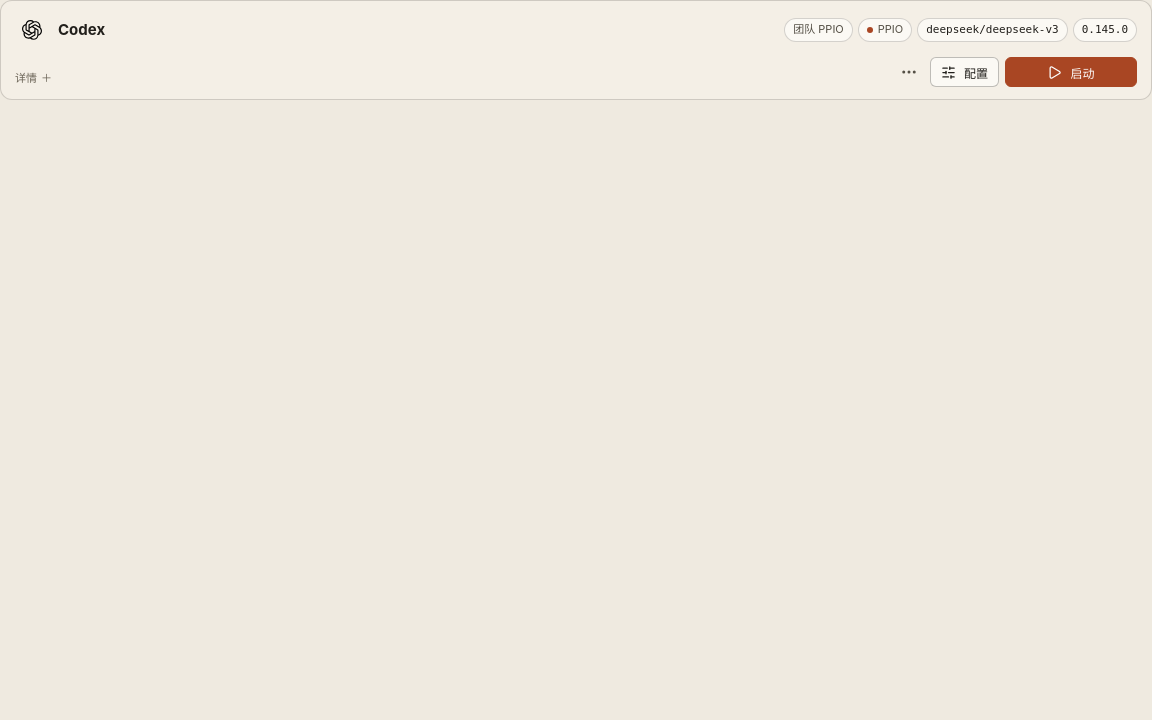
Test case: AgentManageRow › still asks a terminal Agent where to start
Click the button "启动": (1071, 72) [1005,57,1137,87]
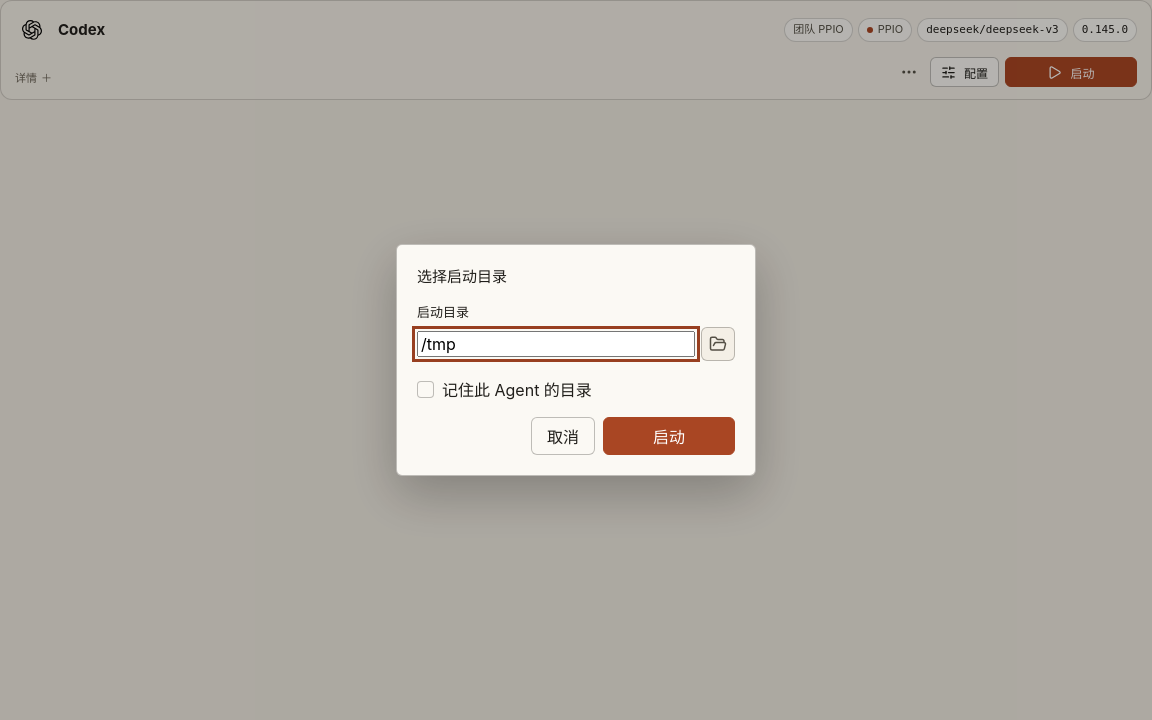
Expected: the dialog is shown, [396,244,756,476]
